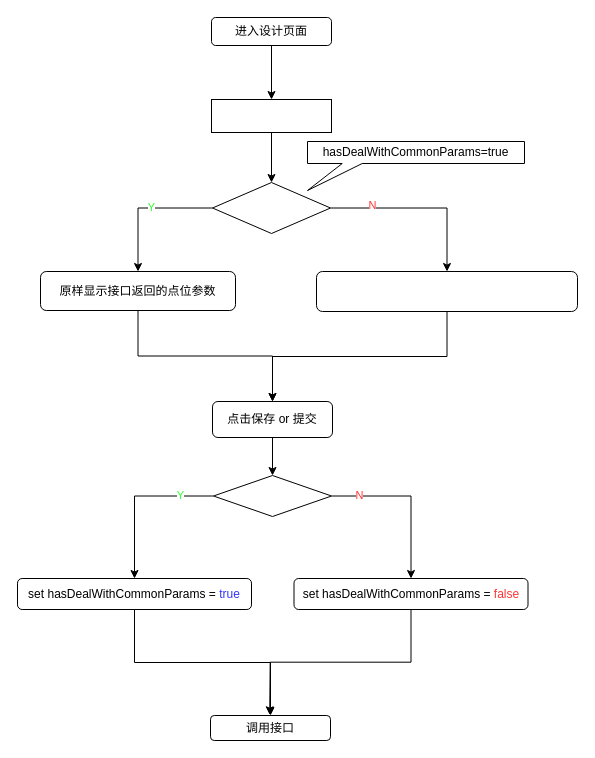
Image size: 595x758. Some labels were removed from this diagram. Each missing label, with the box of its shape:
保持现有逻辑， Merge 点位已有参数和页面公参: (316, 270, 578, 312)
初始化页面点位数据: (210, 98, 332, 132)
页面保存过公参: (212, 182, 330, 234)
页面有公参: (212, 474, 332, 516)
